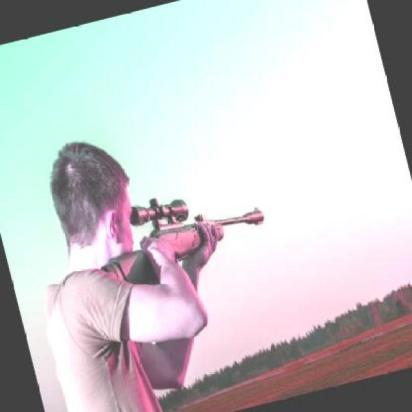Gun: (99, 198, 265, 291)
